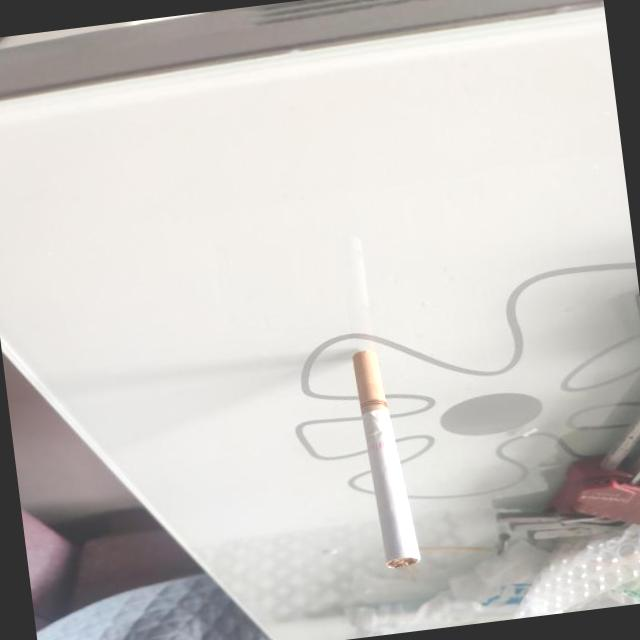cigarette: (349, 346, 420, 569)
